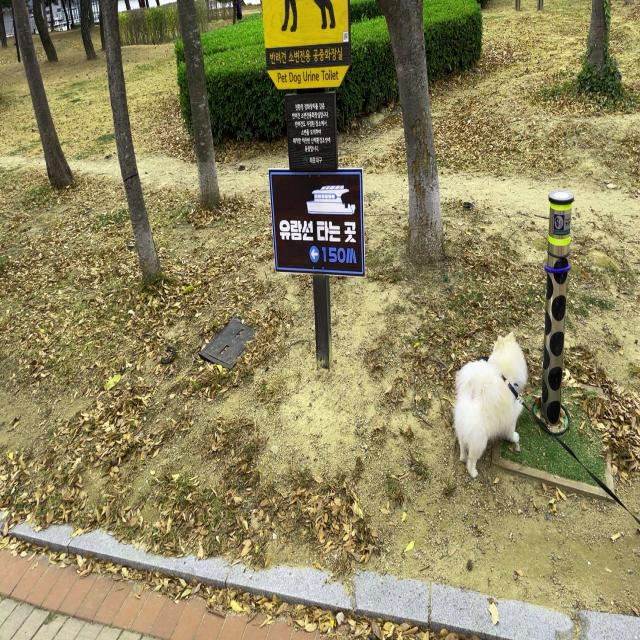Dog: (455, 331, 529, 480)
